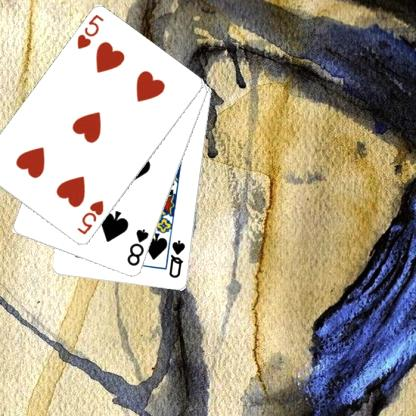5H: (74, 12, 105, 51), (74, 198, 105, 236)
8S: (125, 226, 150, 268)
QS: (167, 238, 186, 279)
